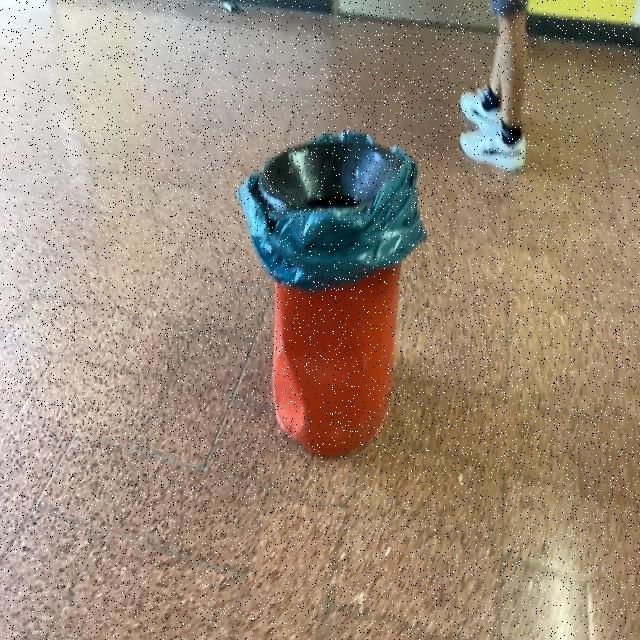garbage container: (231, 122, 455, 494)
